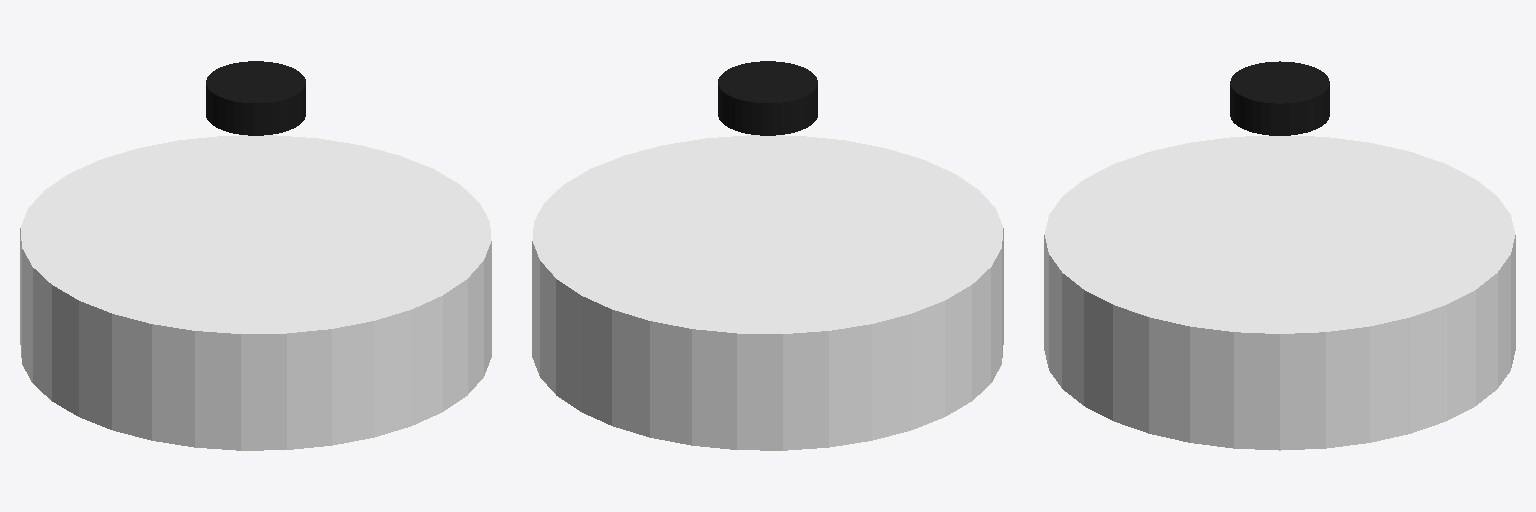
robot.urdf — robot_sweeper:
<?xml version="1.0" ?>
<robot name="robot_sweeper">
  <material name="white"><color rgba="1 1 1 1"/></material>
  <material name="dark"><color rgba="0.15 0.15 0.15 1"/></material>
  <material name="grey"><color rgba="0.5 0.5 0.5 1"/></material>

  <!-- 原点（地面投影） -->
  <link name="base_footprint"/>

  <!-- 圆形机身：直径 0.33m，高 0.09m，中心离地 0.065m -->
  <joint name="base_joint" type="fixed">
    <parent link="base_footprint"/>
    <child link="base_link"/>
    <origin xyz="0 0 0.065" rpy="0 0 0"/>
  </joint>

  <link name="base_link">
    <visual>
      <origin xyz="0 0 0" rpy="0 0 0"/>
      <geometry><cylinder length="0.09" radius="0.165"/></geometry>
      <material name="white"/>
    </visual>
    <collision>
      <origin xyz="0 0 0" rpy="0 0 0"/>
      <geometry><cylinder length="0.09" radius="0.165"/></geometry>
    </collision>
    <inertial>
      <mass value="3.0"/>
      <inertia ixx="0.03" ixy="0" ixz="0" iyy="0.03" iyz="0" izz="0.04"/>
    </inertial>
  </link>

  <!-- 顶部激光雷达 -->
  <joint name="scan_joint" type="fixed">
    <parent link="base_link"/>
    <child link="base_scan"/>
    <origin xyz="0 0 0.15" rpy="0 0 0"/>
  </joint>
  <link name="base_scan">
    <visual>
      <geometry><cylinder length="0.025" radius="0.035"/></geometry>
      <material name="dark"/>
    </visual>
    <collision>
      <geometry><cylinder length="0.025" radius="0.035"/></geometry>
    </collision>
  </link>

  <!-- 左轮：轮径 0.06m，轮距 ±0.1m -->
  <joint name="wheel_left_joint" type="continuous">
    <parent link="base_link"/>
    <child link="wheel_left_link"/>
    <origin xyz="0 0.10 -0.035" rpy="-1.5708 0 0"/>
    <axis xyz="0 0 1"/>
  </joint>
  <link name="wheel_left_link">
    <visual>
      <geometry><cylinder length="0.02" radius="0.03"/></geometry>
      <material name="dark"/>
    </visual>
    <collision>
      <geometry><cylinder length="0.02" radius="0.03"/></geometry>
    </collision>
    <inertial>
      <mass value="0.05"/>
      <inertia ixx="0.0001" ixy="0" ixz="0" iyy="0.0001" iyz="0" izz="0.0001"/>
    </inertial>
  </link>

  <joint name="wheel_right_joint" type="continuous">
    <parent link="base_link"/>
    <child link="wheel_right_link"/>
    <origin xyz="0 -0.10 -0.035" rpy="-1.5708 0 0"/>
    <axis xyz="0 0 1"/>
  </joint>
  <link name="wheel_right_link">
    <visual>
      <geometry><cylinder length="0.02" radius="0.03"/></geometry>
      <material name="dark"/>
    </visual>
    <collision>
      <geometry><cylinder length="0.02" radius="0.03"/></geometry>
    </collision>
    <inertial>
      <mass value="0.05"/>
      <inertia ixx="0.0001" ixy="0" ixz="0" iyy="0.0001" iyz="0" izz="0.0001"/>
    </inertial>
  </link>

  <!-- 前方万向支撑轮 -->
  <joint name="caster_joint" type="fixed">
    <parent link="base_link"/>
    <child link="caster_link"/>
    <origin xyz="0.10 0 -0.053" rpy="0 0 0"/>
  </joint>
  <link name="caster_link">
    <collision>
      <geometry><sphere radius="0.012"/></geometry>
    </collision>
  </link>
</robot>

--- What the picture shows (computed from the rendered views, not written in the file) ---
3 views of the same robot in one strip: view 1: azimuth 30°, elevation 25°; view 2: azimuth 150°, elevation 25°; view 3: azimuth 270°, elevation 25° (orthographic).
Robot: robot_sweeper — 6 links, 5 joints (2 continuous, 3 fixed); root link base_footprint; default pose: every joint at zero.
Links seen in each view (by area): view 1: base_link, base_scan; view 2: base_link, base_scan; view 3: base_link, base_scan.
Link boxes in pixels (box(x1,y1,x2,y2)): base_link: box(20, 135, 491, 450); base_scan: box(206, 61, 305, 135); base_link: box(532, 135, 1003, 450); base_scan: box(718, 61, 817, 135); base_link: box(1044, 136, 1515, 450); base_scan: box(1230, 61, 1329, 135).
Size in the robot's own frame: 0.33 by 0.33 by 0.2275 metres.
Geometry: primitives only (box / cylinder / sphere), no mesh files.
